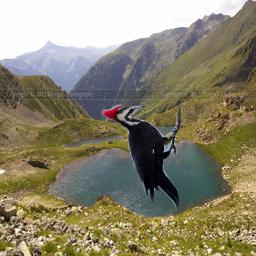Woodpecker: (101, 104, 183, 212)
